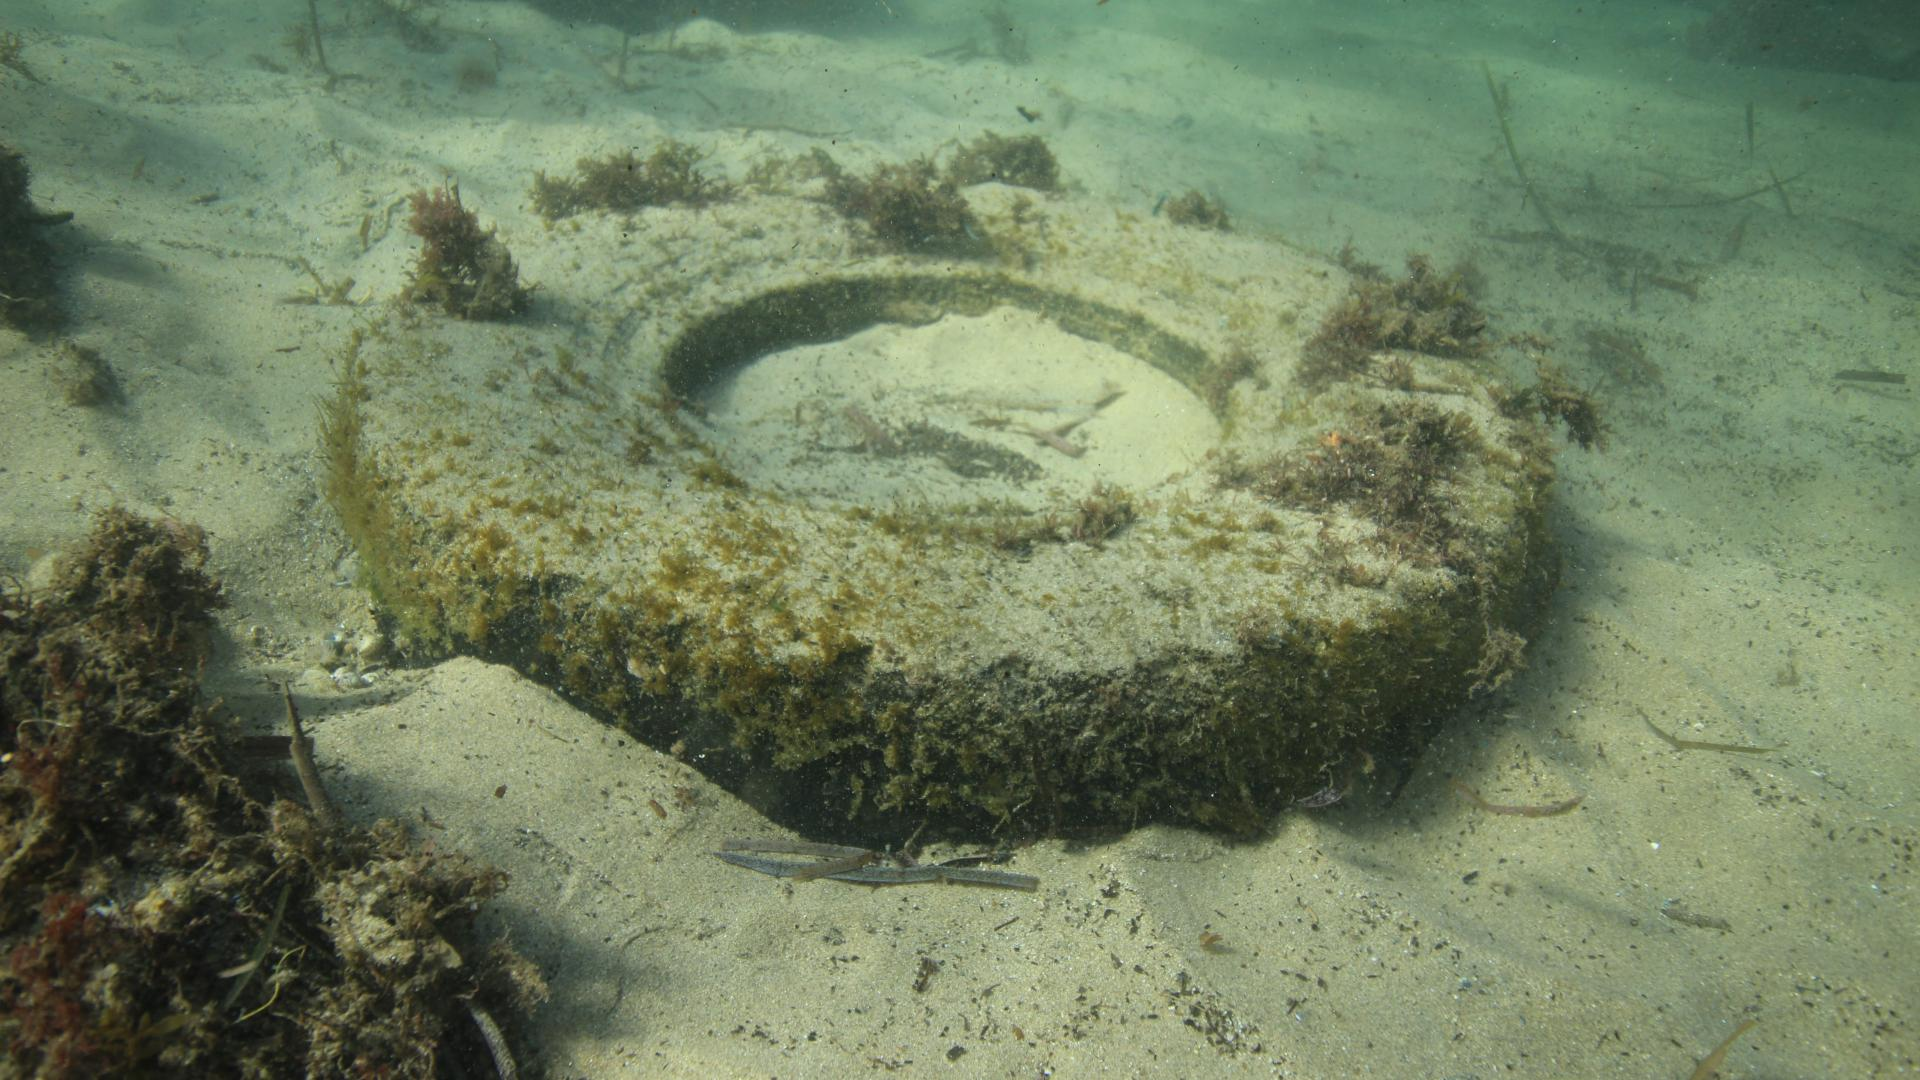tire: (343, 169, 1538, 855)
